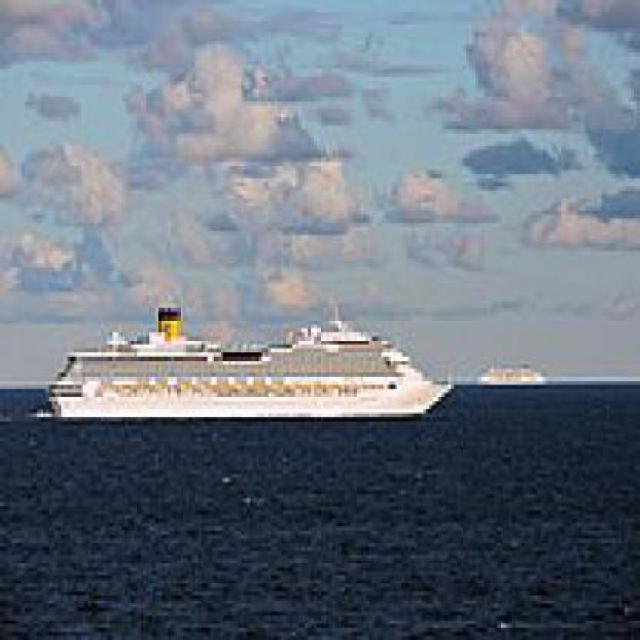cruise: (31, 284, 465, 435)
